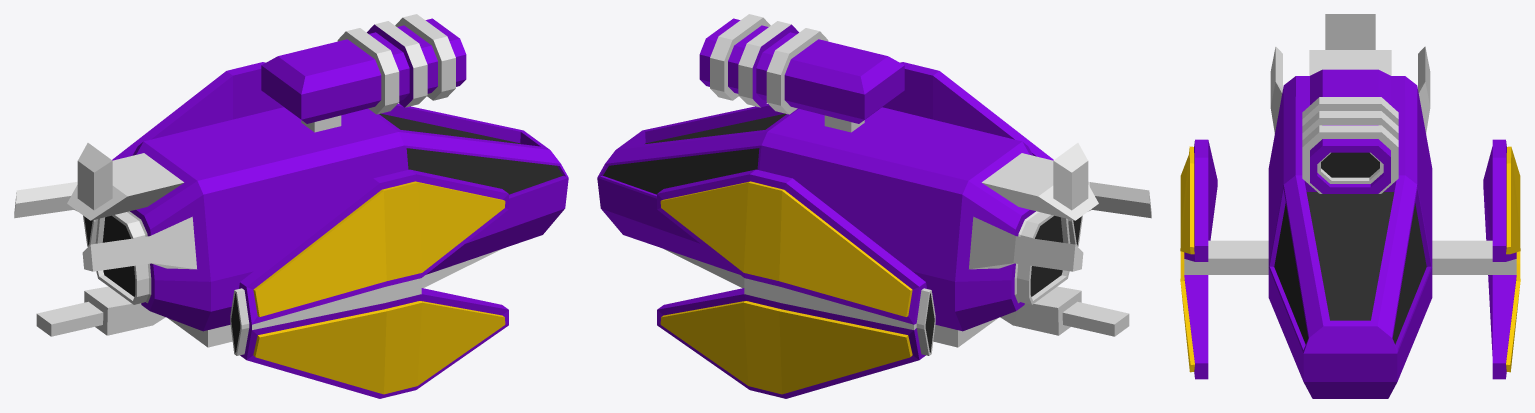
The model's file is Space_Ship2_3.fbx.
3 views of the same model, side by side, from view 1: azimuth 30°, elevation 25°; view 2: azimuth 150°, elevation 25°; view 3: azimuth 270°, elevation 25° (orthographic).
Visible parts, largest first — view 1: Space_Ship.002; view 2: Space_Ship.002; view 3: Space_Ship.002.
Boxes of the visible parts, bbox=[...] form: Space_Ship.002: bbox=[14, 14, 568, 398]; Space_Ship.002: bbox=[597, 14, 1151, 398]; Space_Ship.002: bbox=[1180, 14, 1520, 398].
Bounding box in the file's own units: 718 × 391 × 416.
